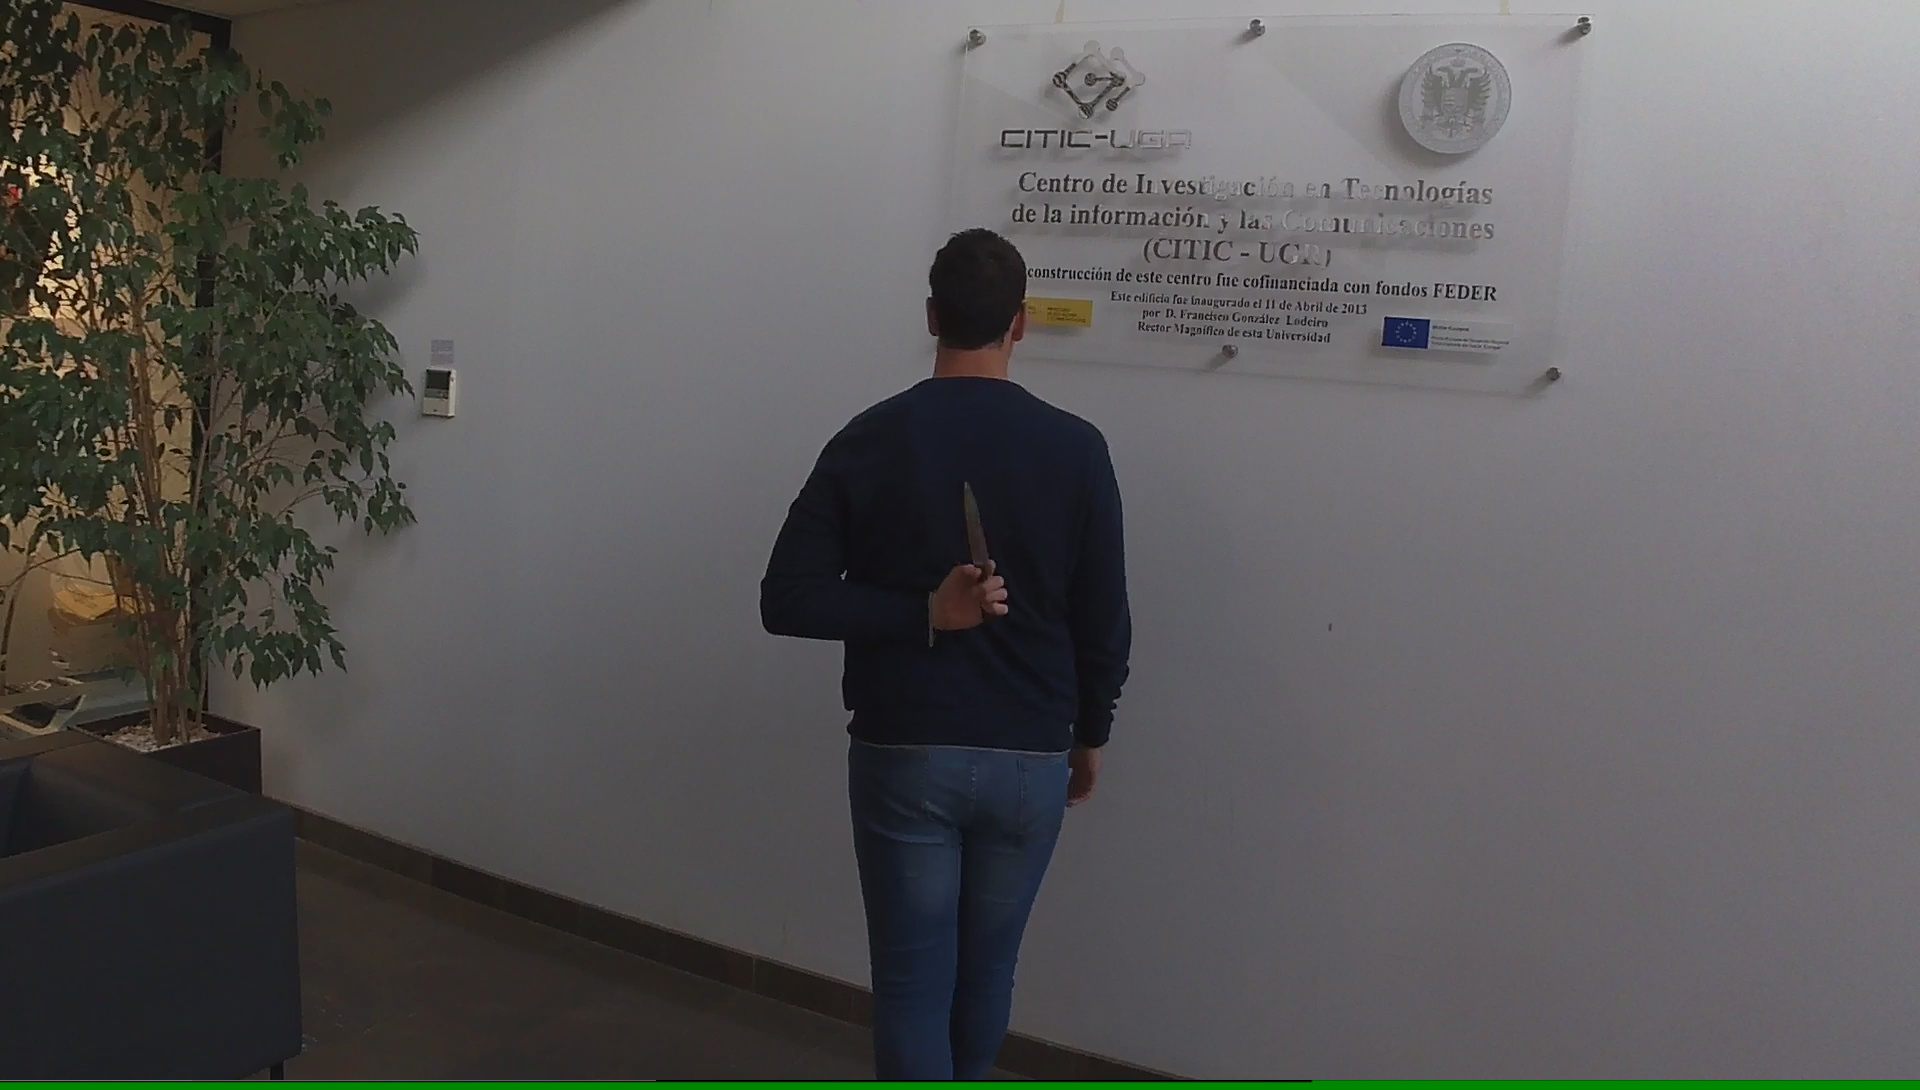knife: (952, 471, 1015, 627)
